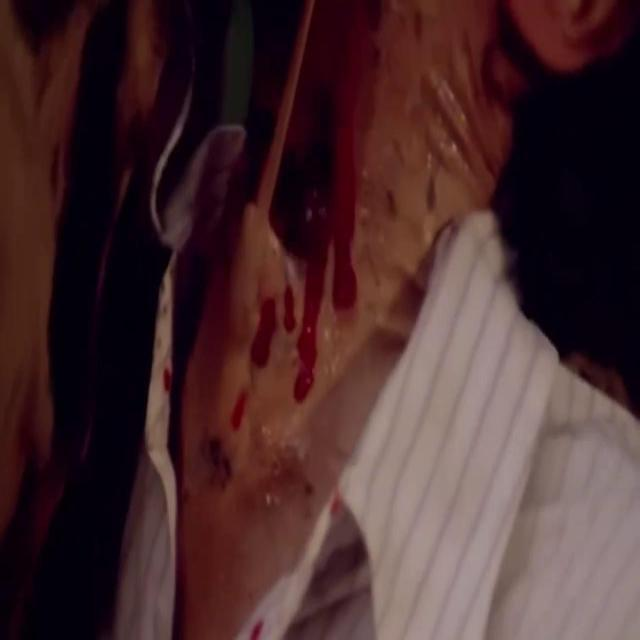flood: (251, 262, 360, 410)
